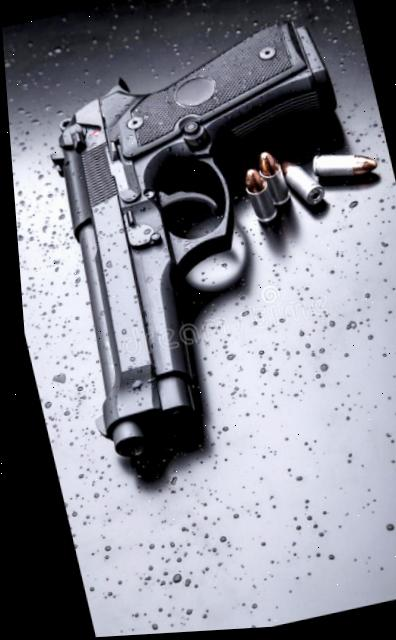pistol: (14, 11, 396, 463)
